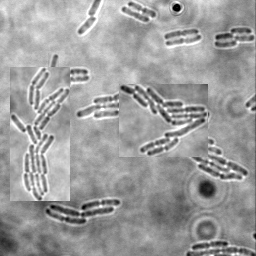Dividing: (128, 1, 157, 18), (166, 34, 202, 47), (55, 94, 68, 128), (164, 28, 200, 39), (48, 53, 59, 89), (192, 239, 229, 249), (71, 67, 89, 81)
Microcolony: (10, 67, 70, 201), (119, 84, 208, 157), (158, 109, 249, 180), (45, 199, 121, 224), (76, 88, 119, 119), (214, 27, 255, 48)
Rod: (121, 5, 150, 23), (78, 16, 99, 34), (71, 73, 90, 82)
